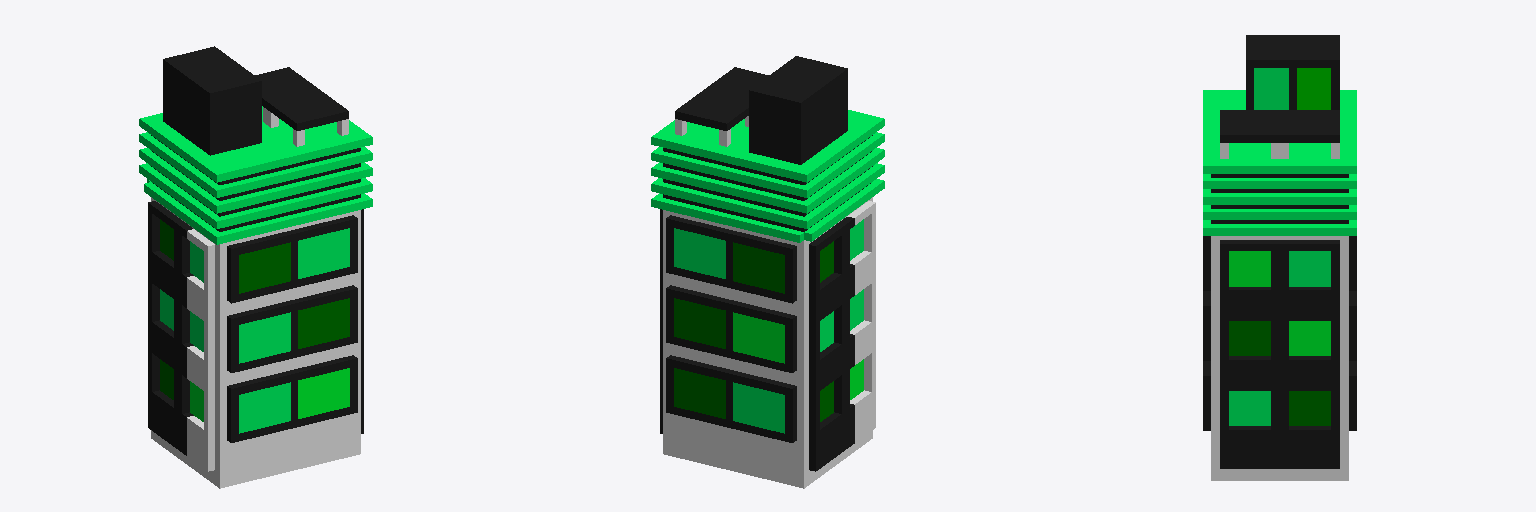
3 views of the same model, side by side, from view 1: azimuth 30°, elevation 25°; view 2: azimuth 150°, elevation 25°; view 3: azimuth 270°, elevation 25° (orthographic).
Visible parts, largest first — view 1: object 1; view 2: object 1; view 3: object 1.
Part boxes in pixels (left/top/right/bottom): object 1: left=139, top=46, right=372, bottom=488; object 1: left=651, top=56, right=884, bottom=488; object 1: left=1203, top=35, right=1356, bottom=480.
Size of the model in its own units: 2.1 by 4.9 by 1.8.
Materials: 1 (1 with a texture image).